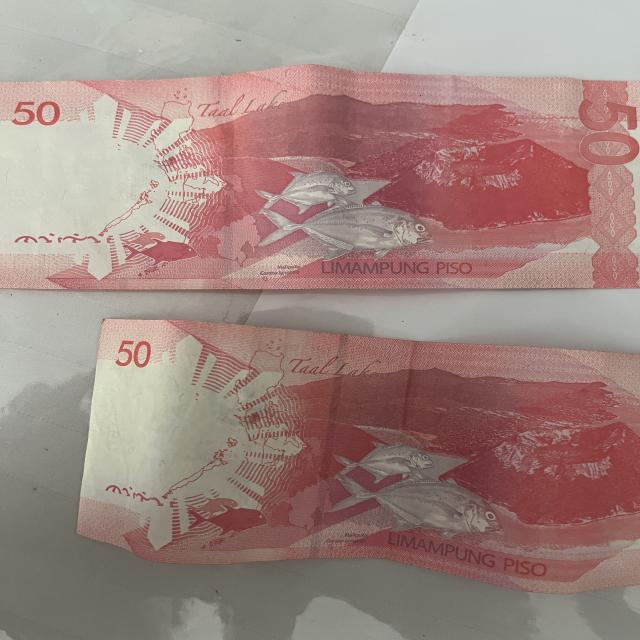50_maliputo: (318, 436, 506, 547), (248, 155, 432, 264)
50_maliputo_watermark: (110, 223, 207, 273), (179, 490, 277, 539)
